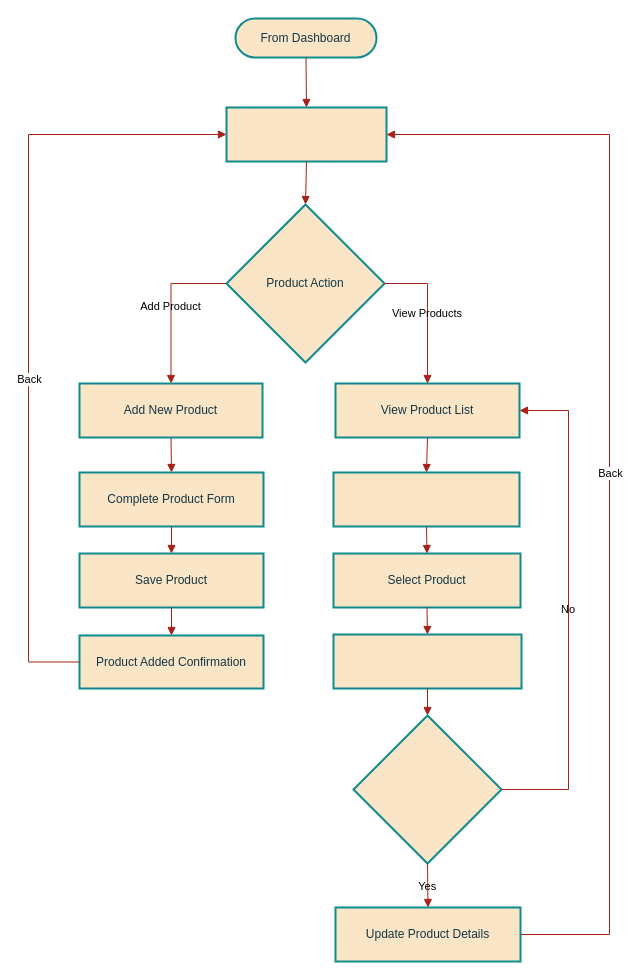
This 639x979 diagram has some shape labels left out. The shapes that lost their labels are listed below. From the top down, each one's centre as x and y in pixels, then its label:
pixel 306 134: Products Page
pixel 426 499: Search/Filter Products
pixel 427 661: Product Details
pixel 427 789: Edit Product?
